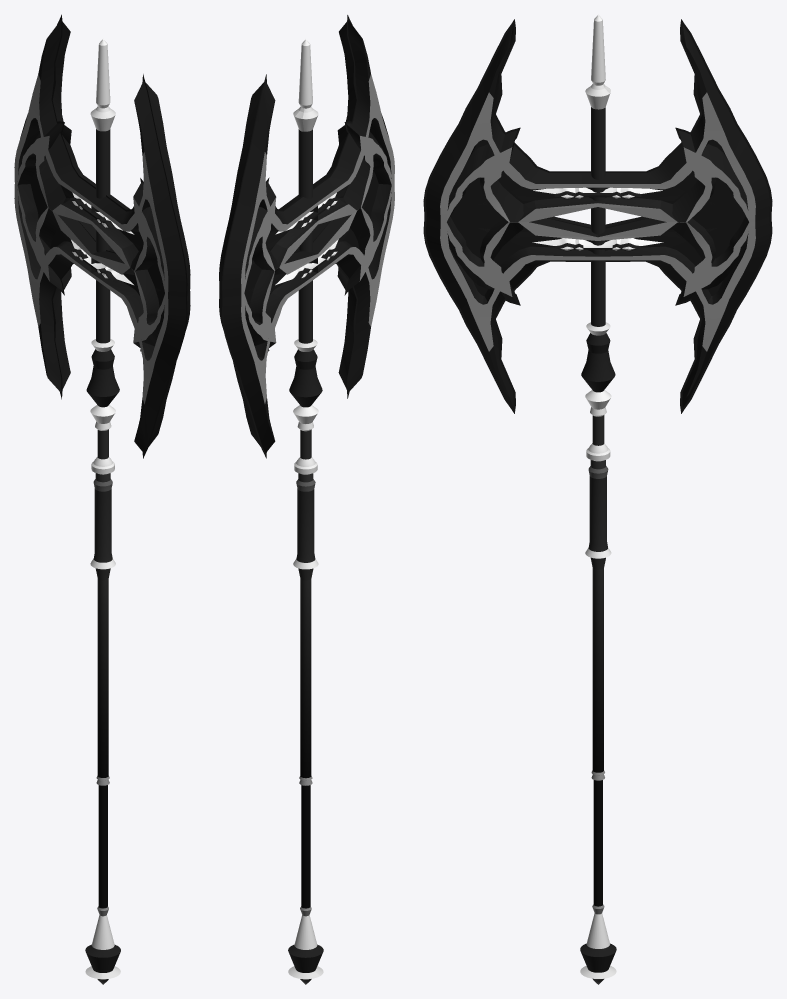
The model's file is sword.fbx.
3 views of the same model, side by side, from view 1: azimuth 30°, elevation 25°; view 2: azimuth 150°, elevation 25°; view 3: azimuth 270°, elevation 25° (orthographic). The views are drawn at different scales.
Parts seen in each view (by area): view 1: Hacha, Mango; view 2: Hacha, Mango; view 3: Hacha, Mango.
Boxes of the visible parts, x1=… form: Hacha: x1=14, y1=14, x2=190, y2=458; Mango: x1=85, y1=38, x2=120, y2=984; Hacha: x1=219, y1=15, x2=394, y2=458; Mango: x1=288, y1=39, x2=323, y2=984; Hacha: x1=423, y1=19, x2=772, y2=413; Mango: x1=580, y1=14, x2=616, y2=984.
Size of the model in its own units: 19.96 by 584 by 190.
